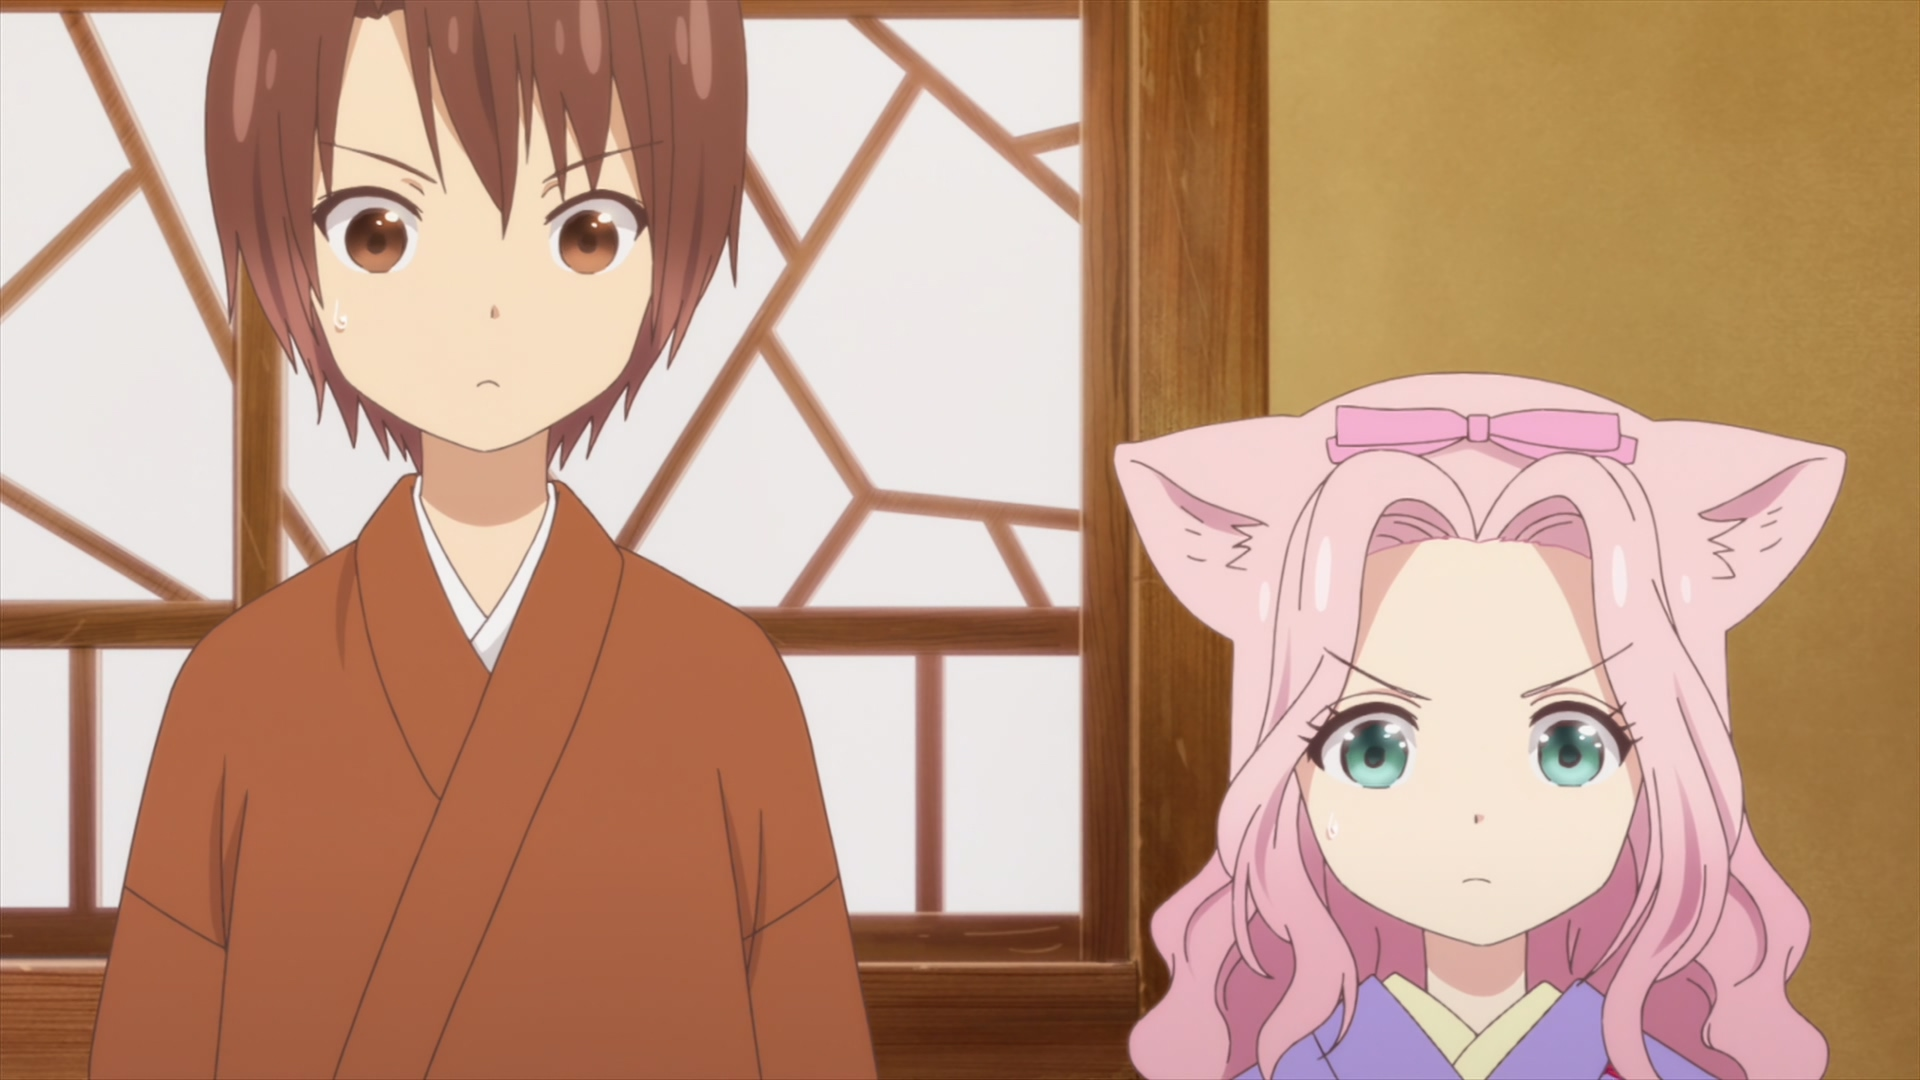枣: (90, 1, 876, 1080)
莲: (1112, 375, 1847, 1080)
